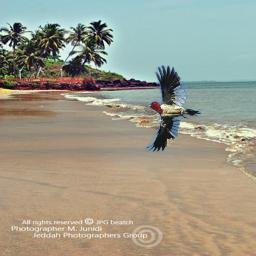Woodpecker: (145, 65, 201, 152)
